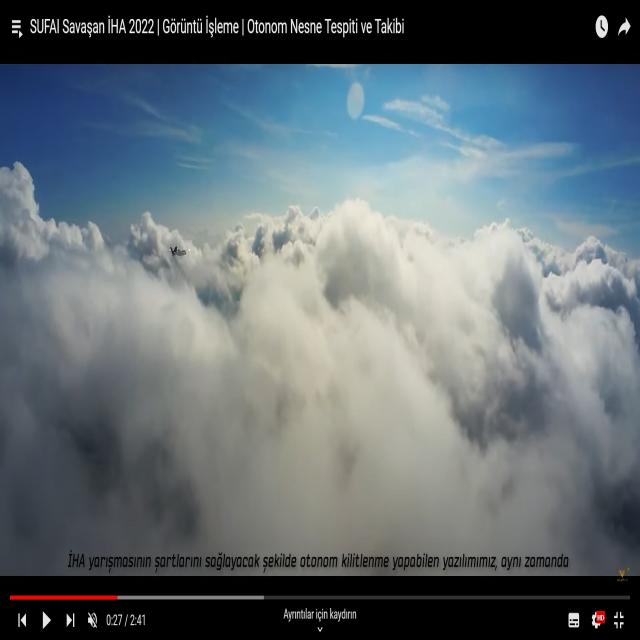iha: (169, 248, 186, 255)
